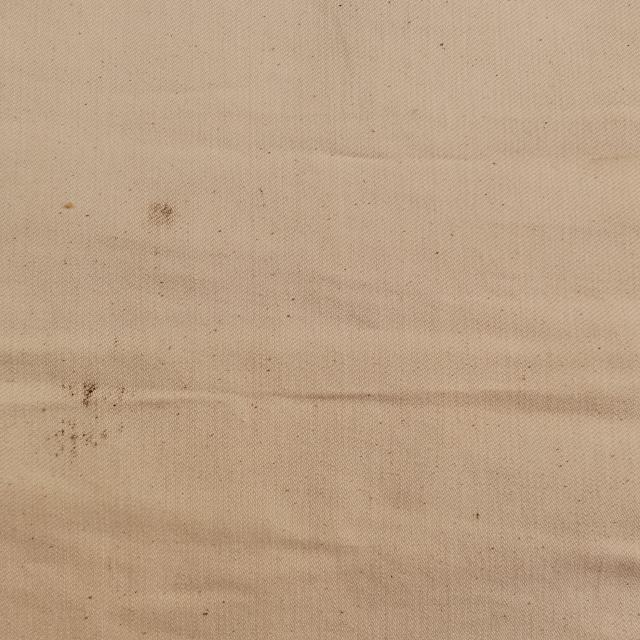taaaches: (18, 372, 153, 460), (137, 198, 187, 233), (56, 200, 89, 216)
